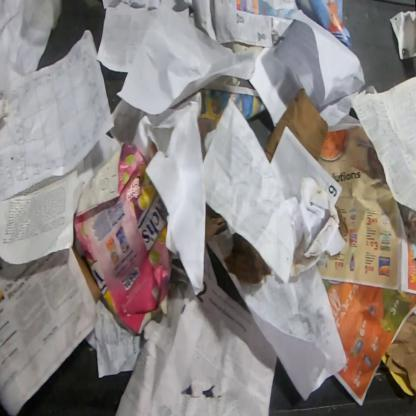cardboard: (72, 141, 173, 336), (264, 88, 329, 164), (223, 232, 272, 286), (72, 246, 102, 304), (205, 203, 228, 245)
